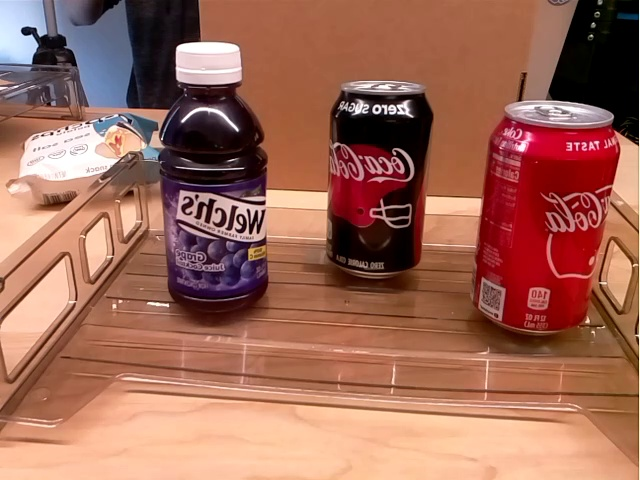cocacola: (471, 99, 620, 339)
cocacola-zero: (323, 78, 434, 280)
juice: (159, 42, 269, 315)
